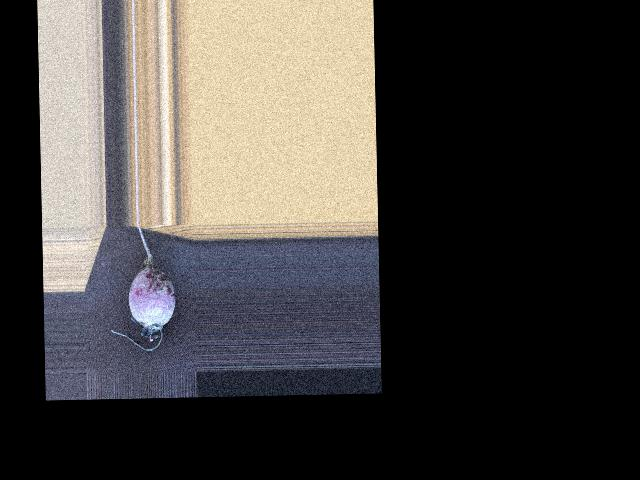beet: (108, 223, 177, 351)
